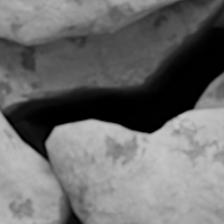brick: (0, 0, 175, 44)
broken_brick: (48, 107, 223, 223), (0, 111, 62, 223)
crack: (1, 0, 223, 223)
